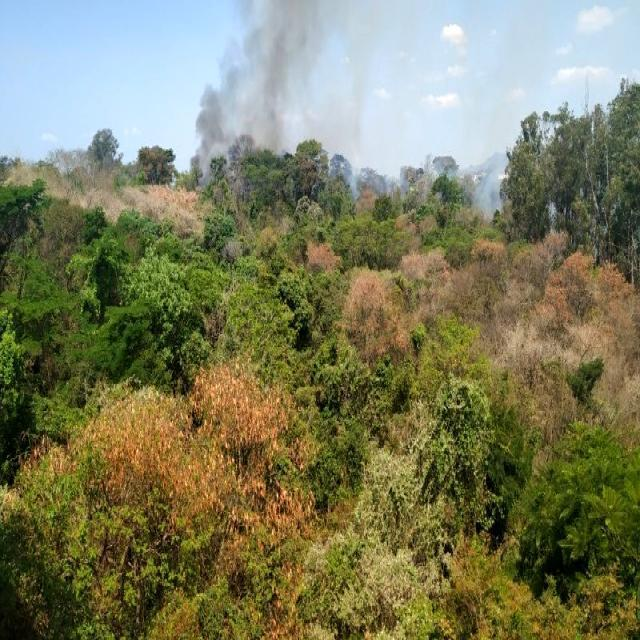Smoke: (186, 2, 358, 165), (479, 137, 514, 219)
